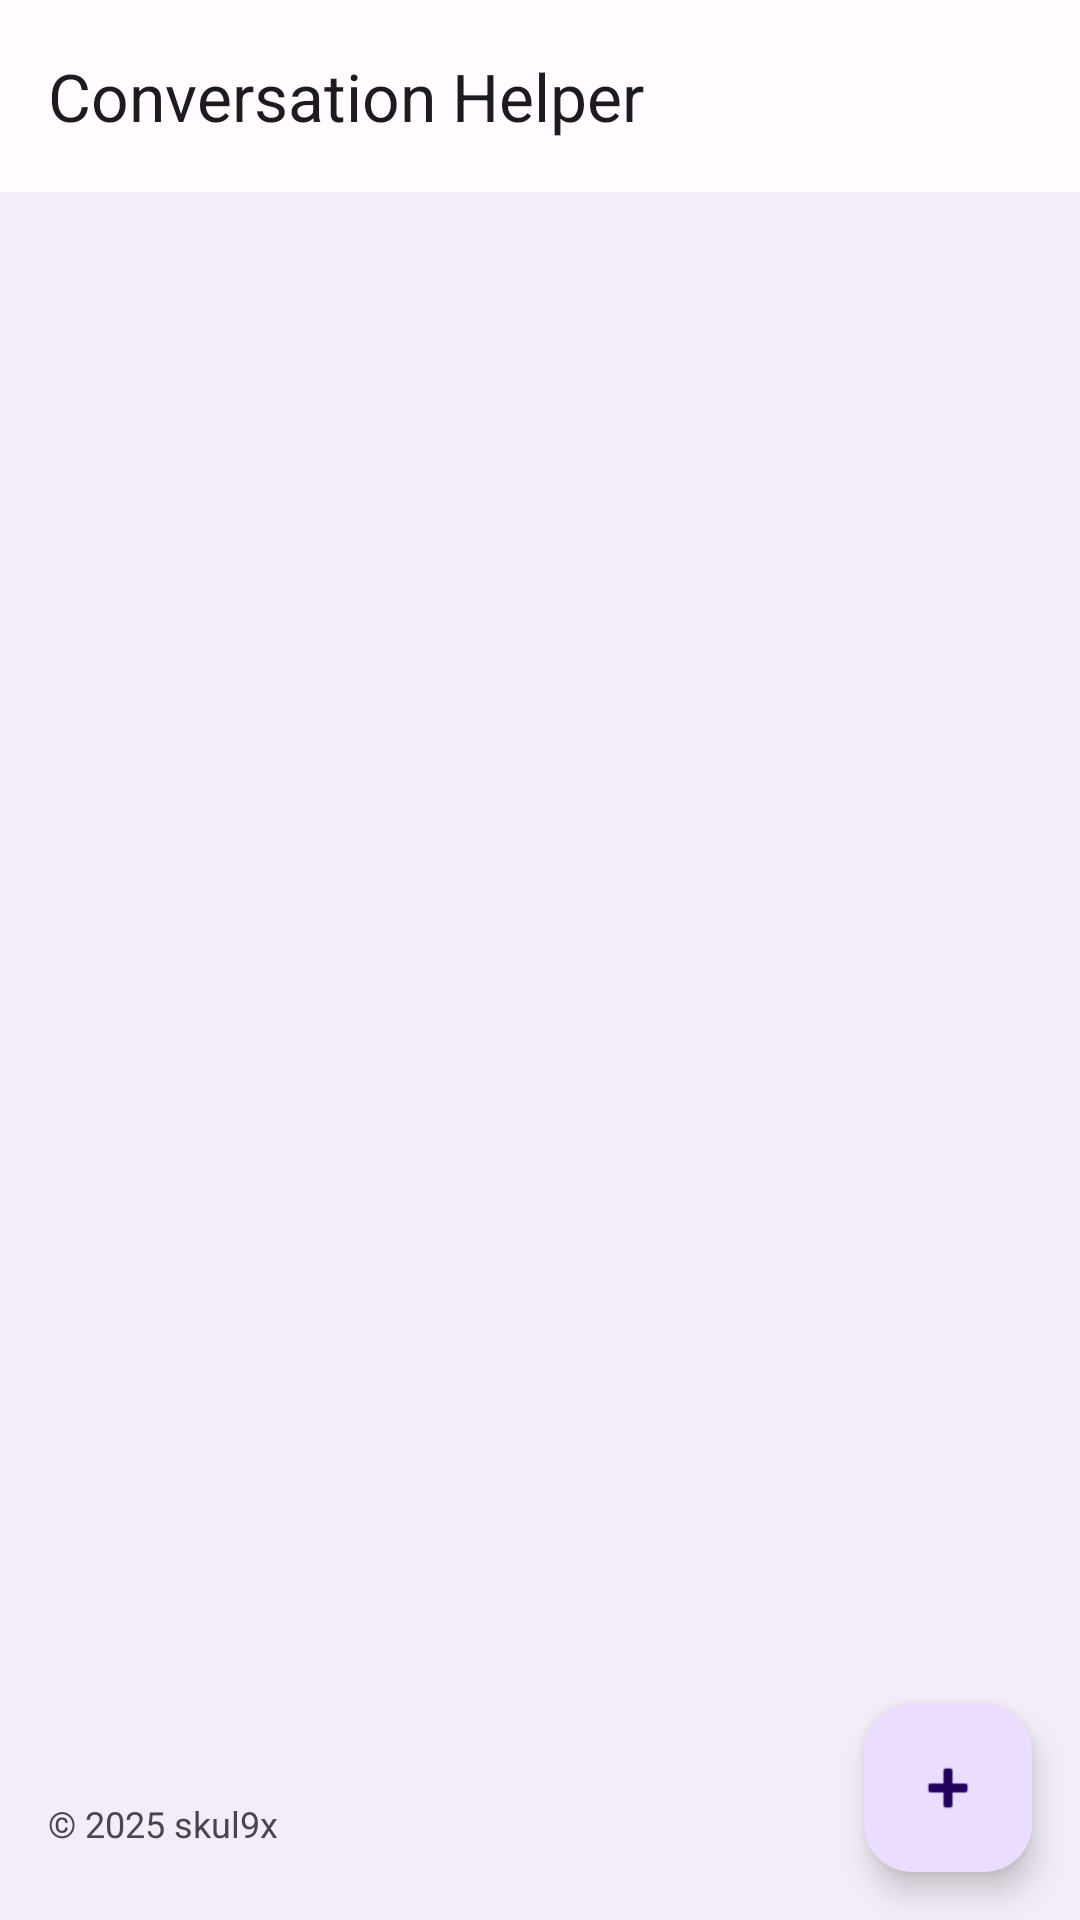

Icon click points for this 1080*1920 phone screenshot, format (x=x, y=y):
Thêm câu mới: (x=948, y=1788)
